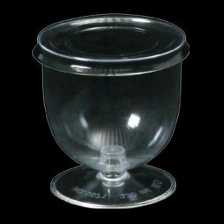glass: (28, 9, 197, 213)
